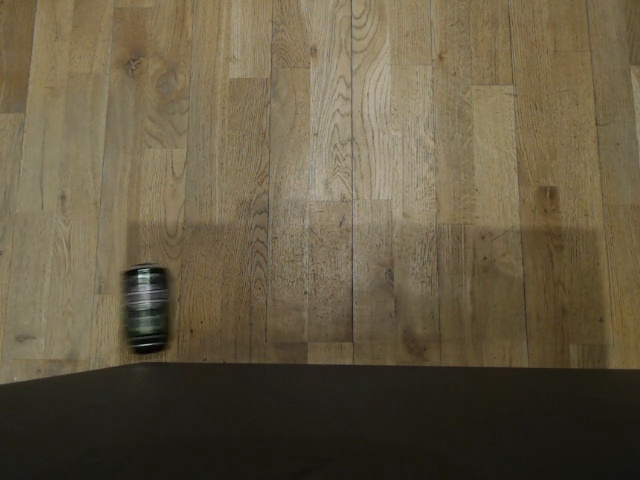beer: (117, 263, 173, 352)
